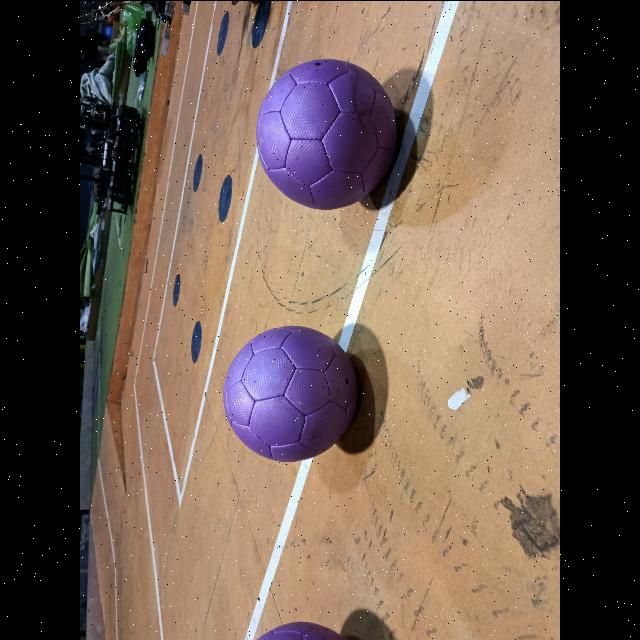P: (256, 58, 396, 208), (224, 326, 358, 460), (252, 622, 351, 640)
